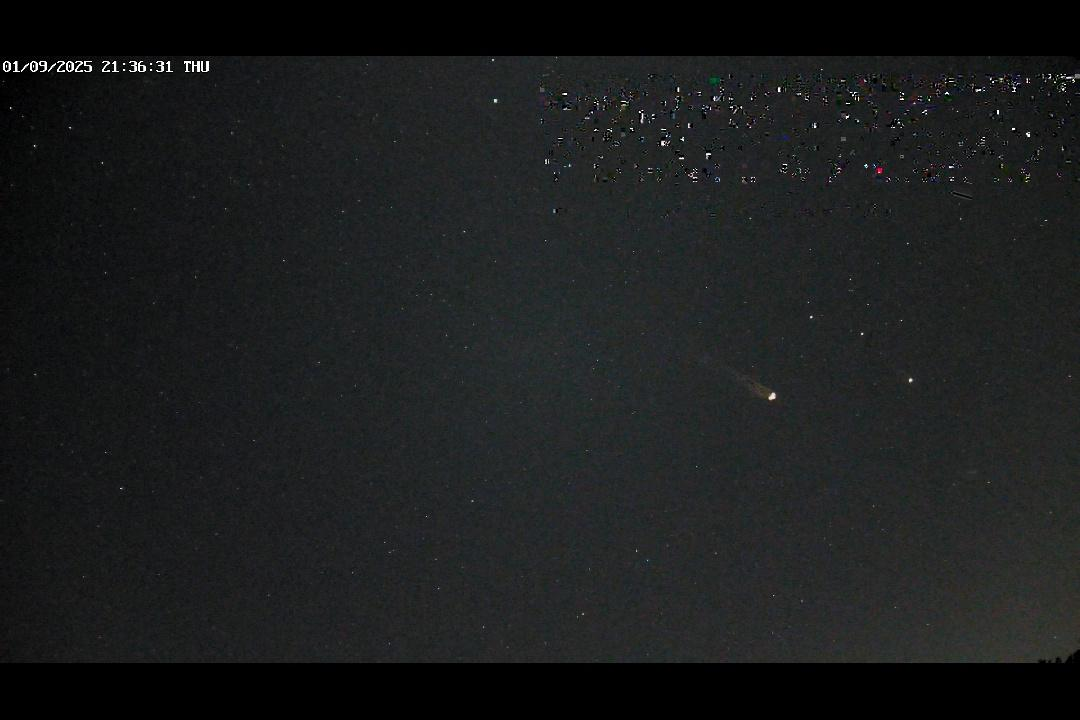Plane: (722, 367, 782, 408)
